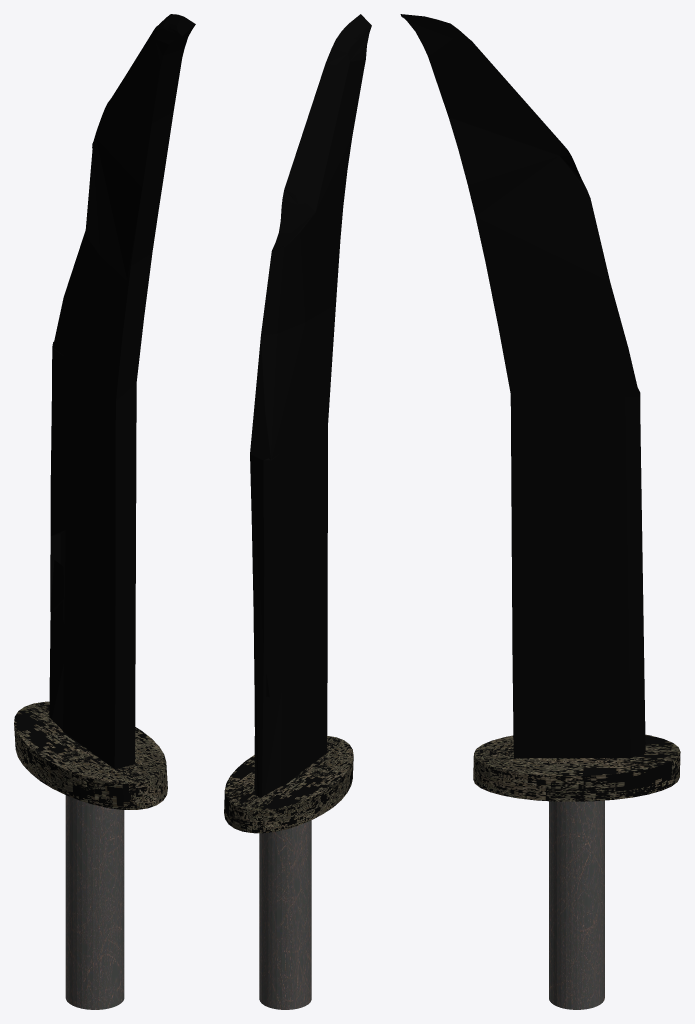
File: SwordModel.fbx
3 views of the same model, side by side, from view 1: azimuth 30°, elevation 25°; view 2: azimuth 150°, elevation 25°; view 3: azimuth 270°, elevation 25° (orthographic). The views are drawn at different scales.
Visible parts, largest first — view 1: node_id13, node_id10, node_id7; view 2: node_id13, node_id10, node_id7; view 3: node_id13, node_id10, node_id7.
Boxes of the visible parts, bbox=[...] form: node_id13: bbox=[49, 14, 195, 769]; node_id10: bbox=[65, 795, 124, 1009]; node_id7: bbox=[14, 701, 167, 809]; node_id13: bbox=[250, 14, 371, 797]; node_id10: bbox=[259, 820, 311, 1009]; node_id7: bbox=[224, 735, 353, 833]; node_id13: bbox=[400, 14, 645, 757]; node_id10: bbox=[549, 800, 604, 1009]; node_id7: bbox=[473, 734, 680, 801].
Size of the model in its own units: 0.0035 by 0.0338 by 0.00868.
Materials: 3 (2 with a texture image).
